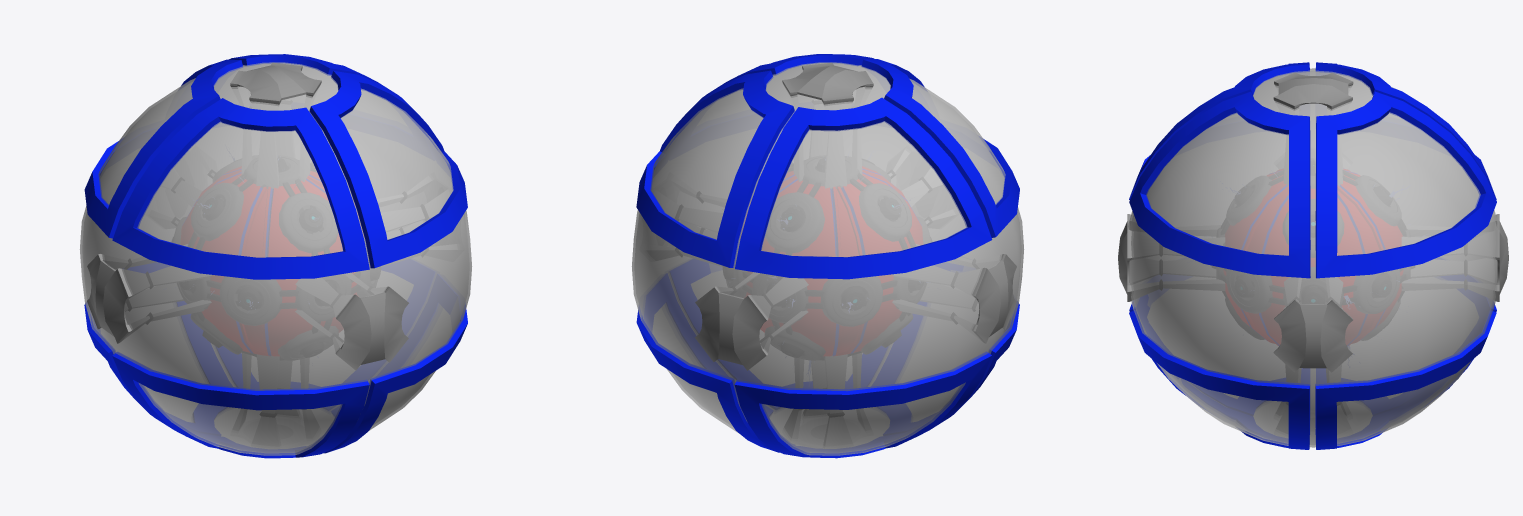
Rendered from FINALBALL.fbx.
3 views of the same model, side by side, from view 1: azimuth 30°, elevation 25°; view 2: azimuth 150°, elevation 25°; view 3: azimuth 270°, elevation 25° (orthographic). The views are drawn at different scales.
Parts seen in each view (by area): view 1: Ballmesh, forcefield; view 2: Ballmesh, forcefield; view 3: forcefield, Ballmesh.
Boxes of the visible parts, x1,y1,x2,y2 form: Ballmesh: [84, 54, 467, 458]; forcefield: [79, 62, 472, 455]; Ballmesh: [636, 54, 1019, 458]; forcefield: [631, 62, 1024, 455]; forcefield: [1128, 68, 1498, 447]; Ballmesh: [1118, 62, 1508, 449].
Bounding box in the file's own units: 121 × 121 × 121.
